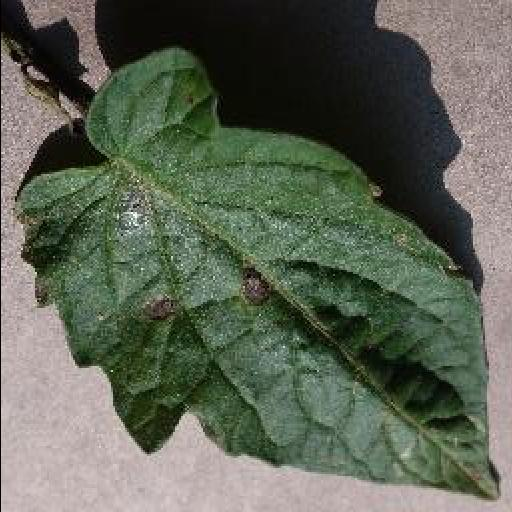disease_tomato: (20, 42, 504, 502)
